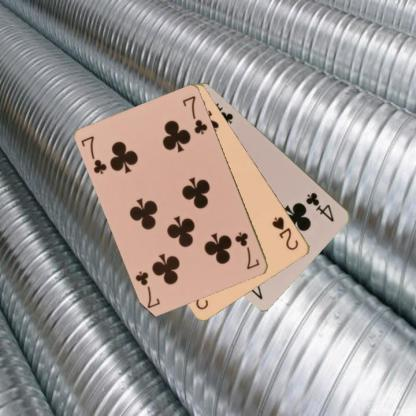2s: (270, 214, 300, 252)
4c: (303, 190, 336, 224)
7c: (78, 134, 108, 176), (232, 229, 261, 271)
